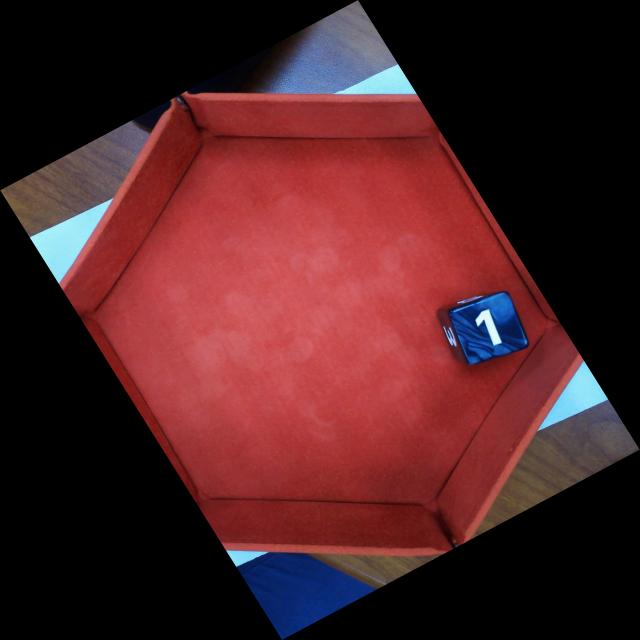dice: (453, 292, 527, 363)
